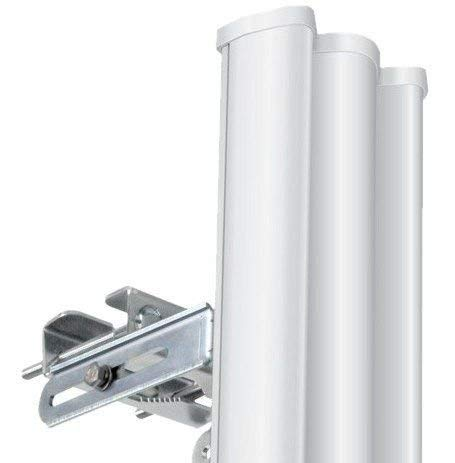sa: (208, 17, 317, 463)
